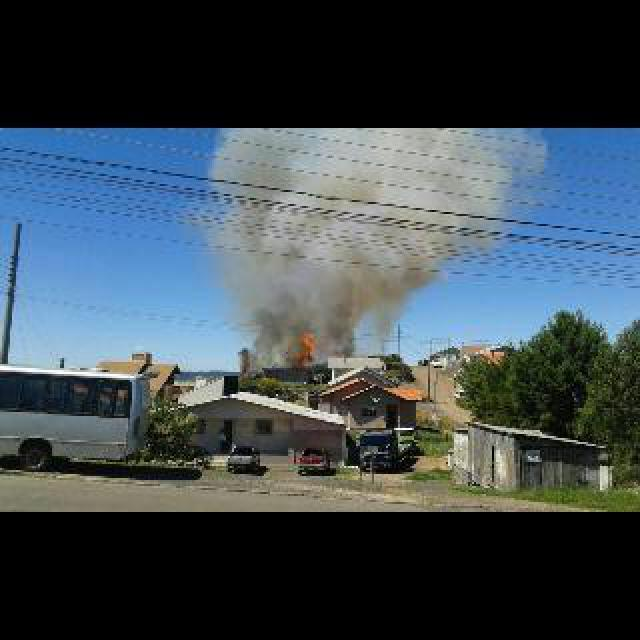Fire: (296, 324, 318, 368)
Smoke: (204, 128, 532, 348)
